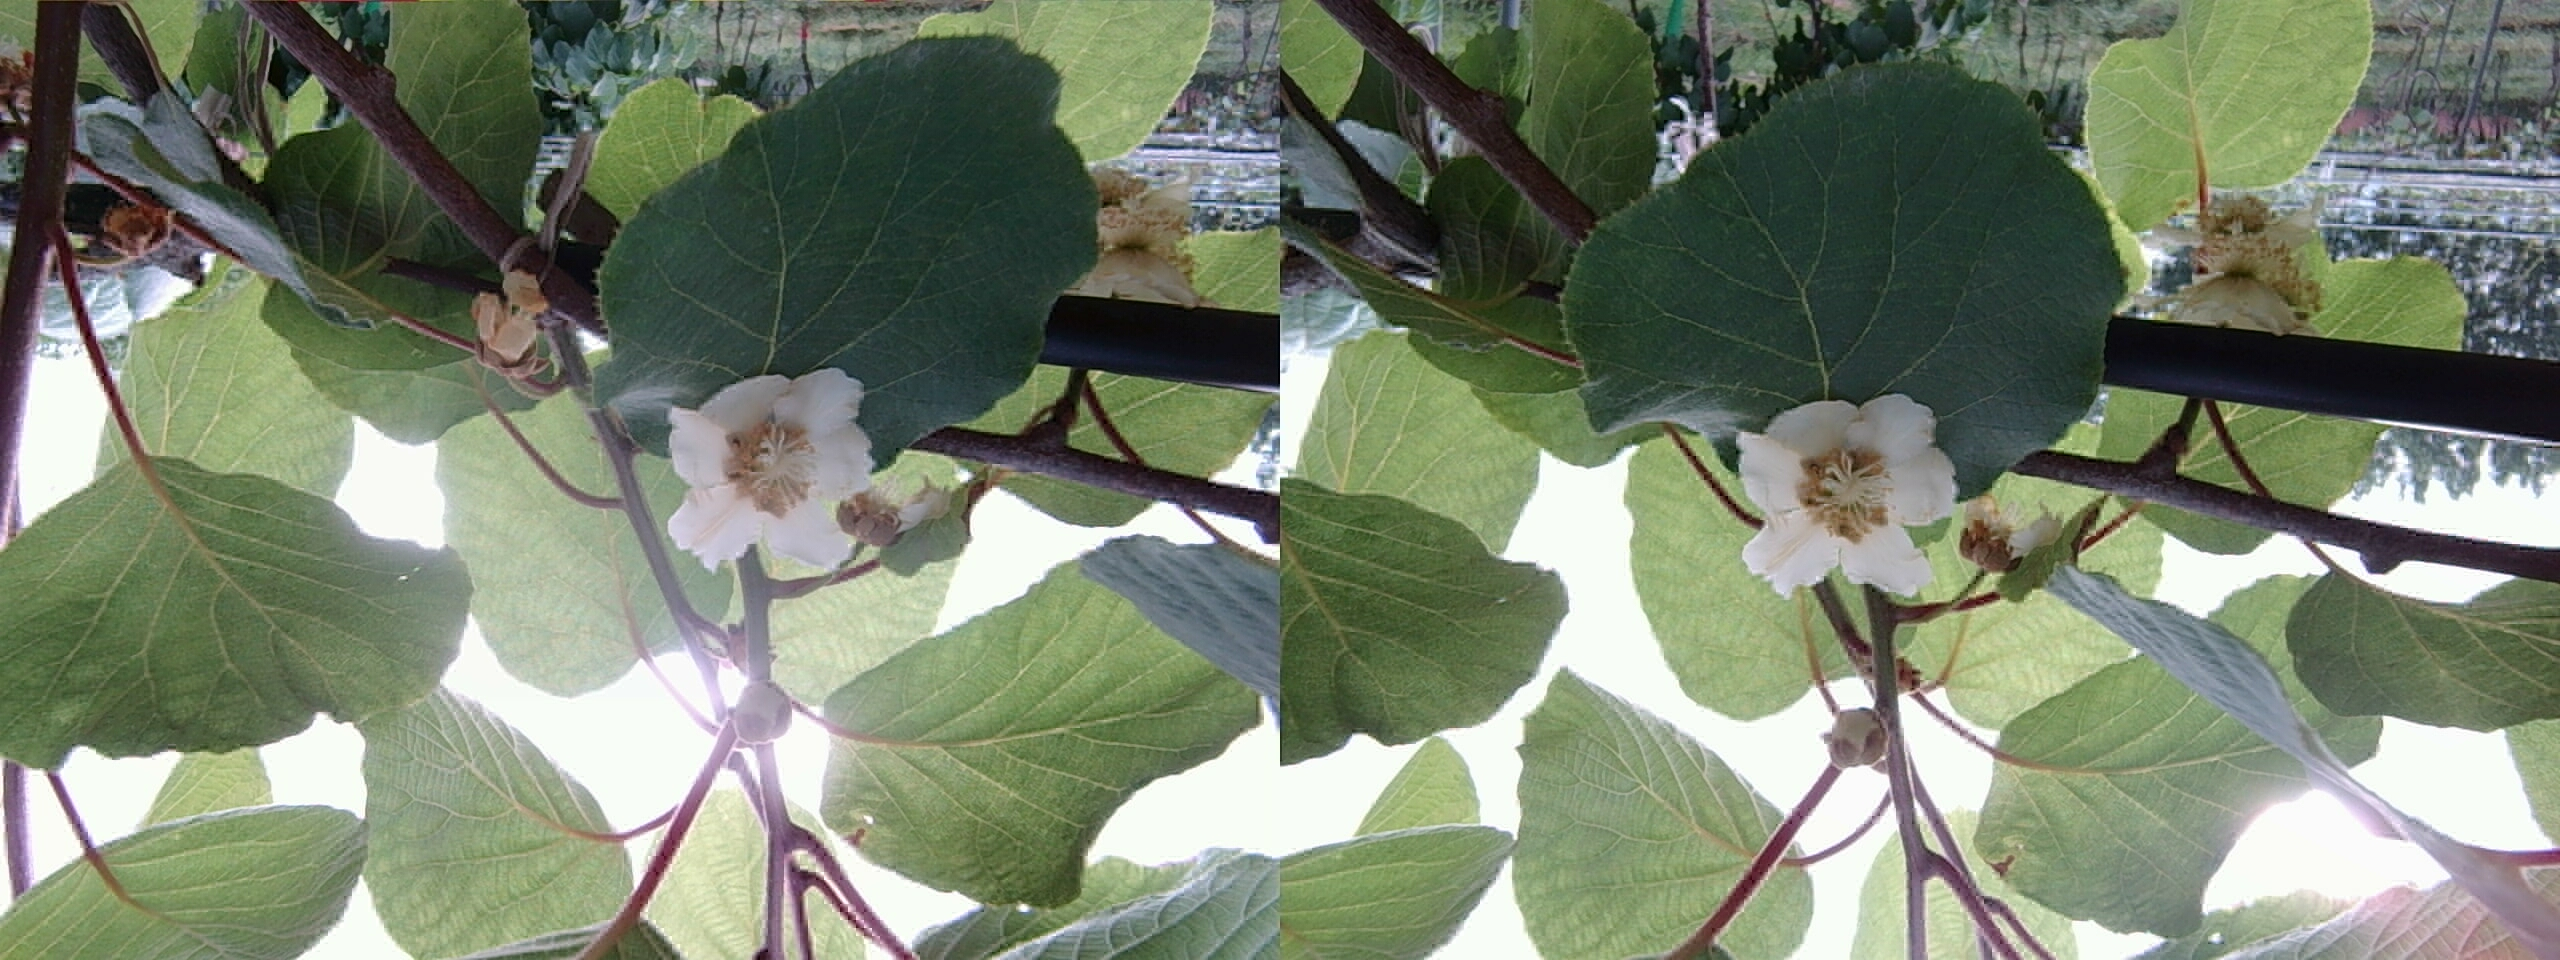flower: (1731, 380, 1959, 594), (664, 359, 878, 568)
